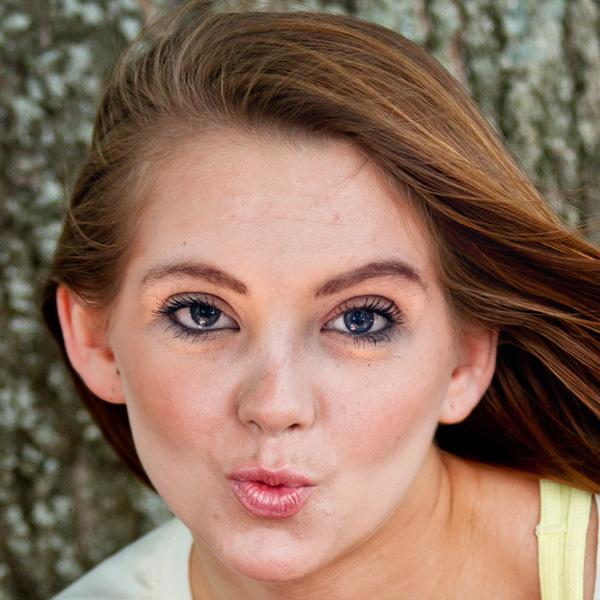Eyes: (146, 282, 247, 349), (314, 288, 408, 350)
